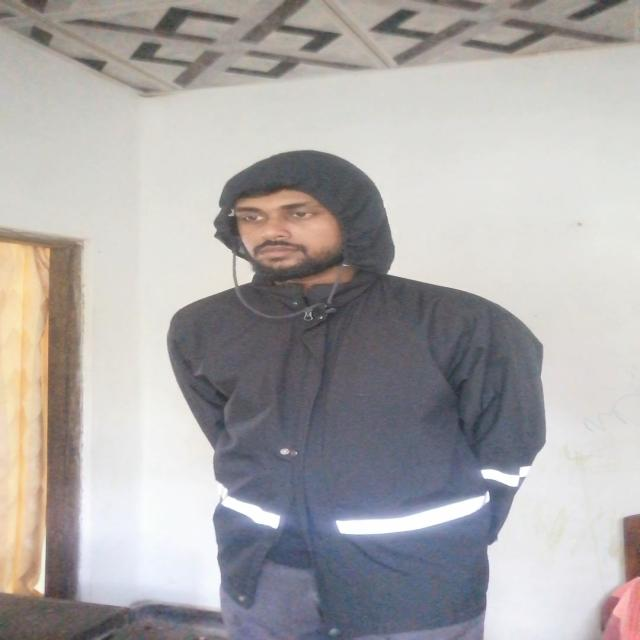Jacket_Wearer: (148, 152, 518, 640)
